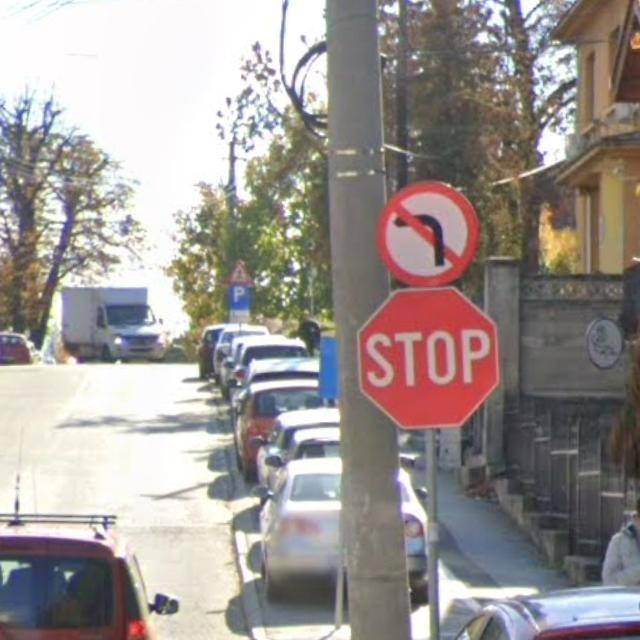prio_stop: (356, 284, 503, 426)
